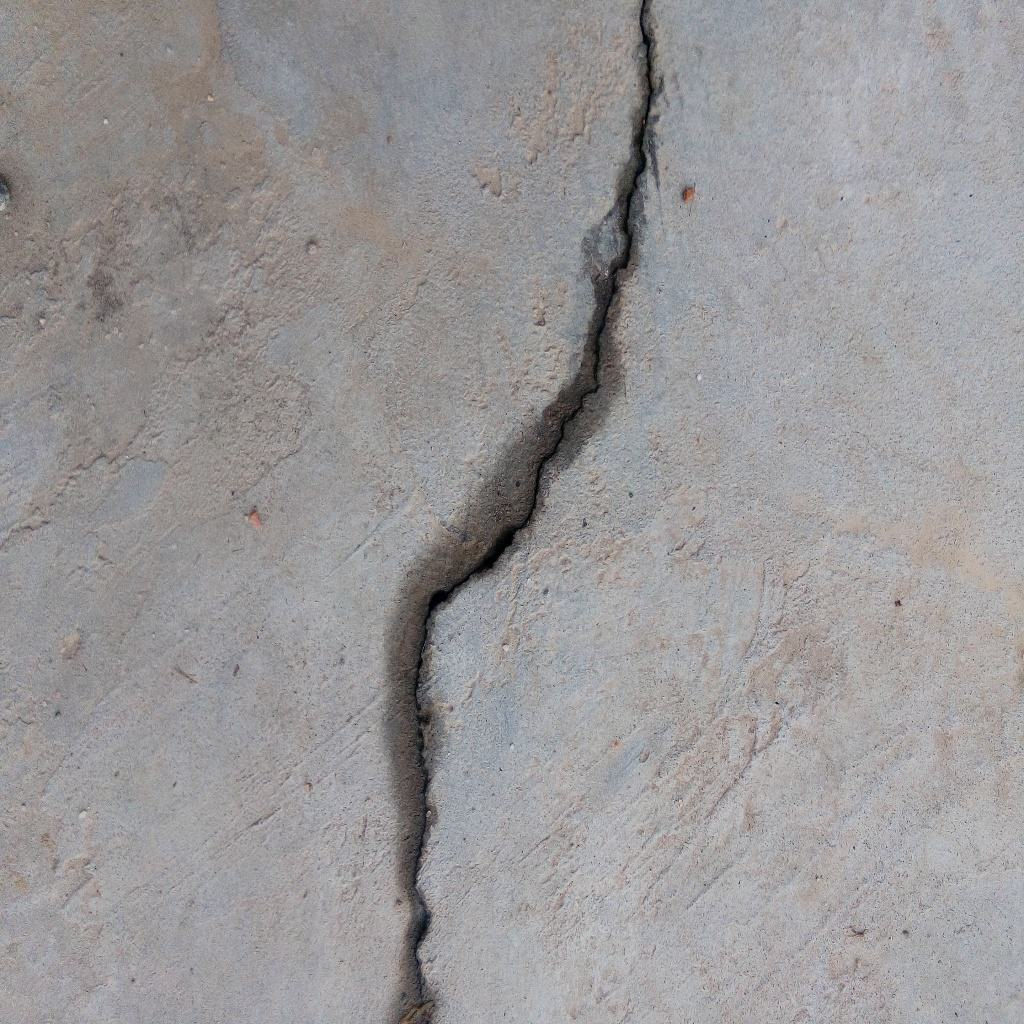Crack: (410, 1, 656, 1024)
